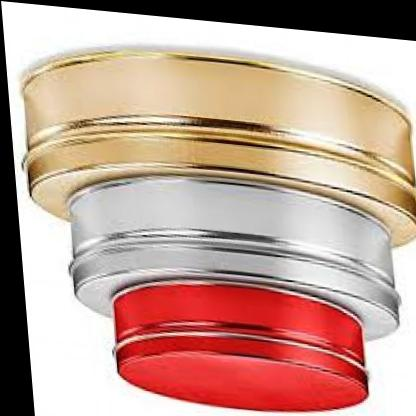Metal: (7, 1, 416, 416)
